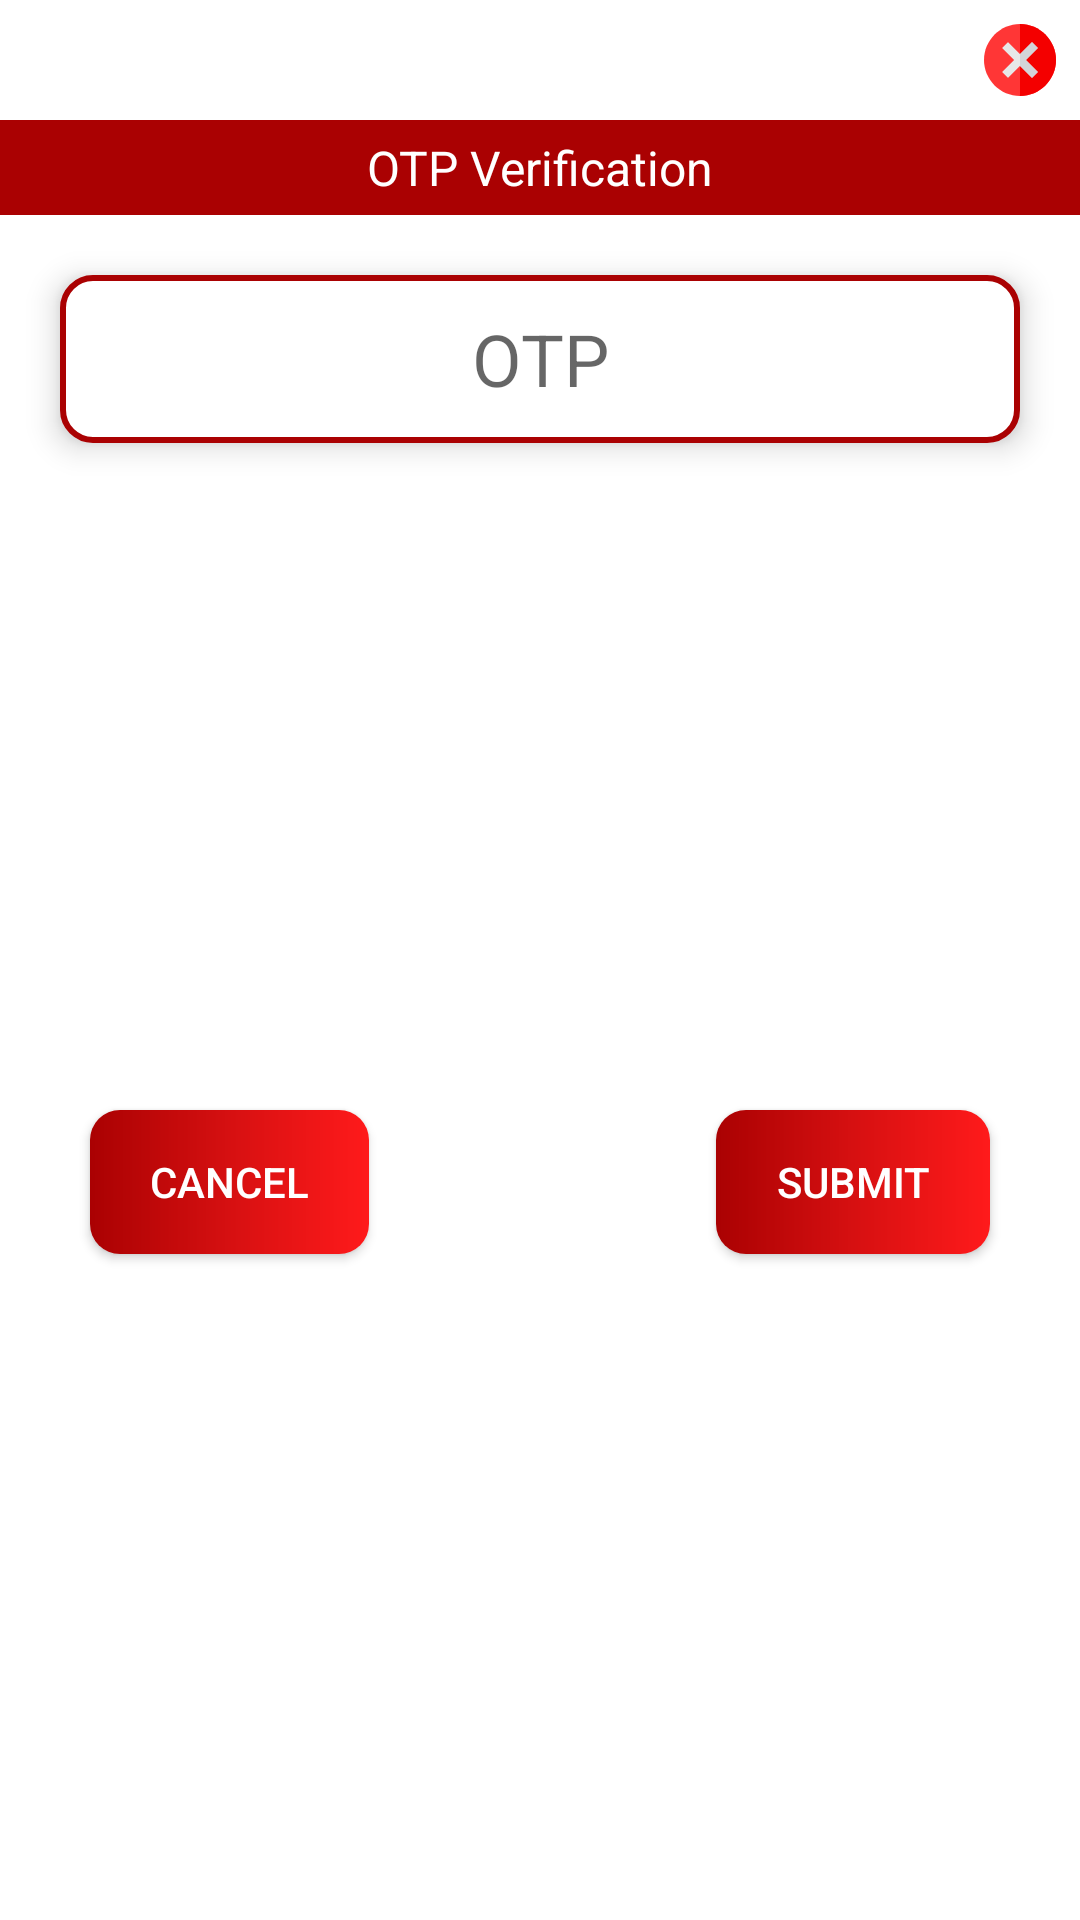

Icons on this 1080w x 1920h Android screen, each with the point to tap as (x=x, y=y):
failureicon: (x=1020, y=60)
